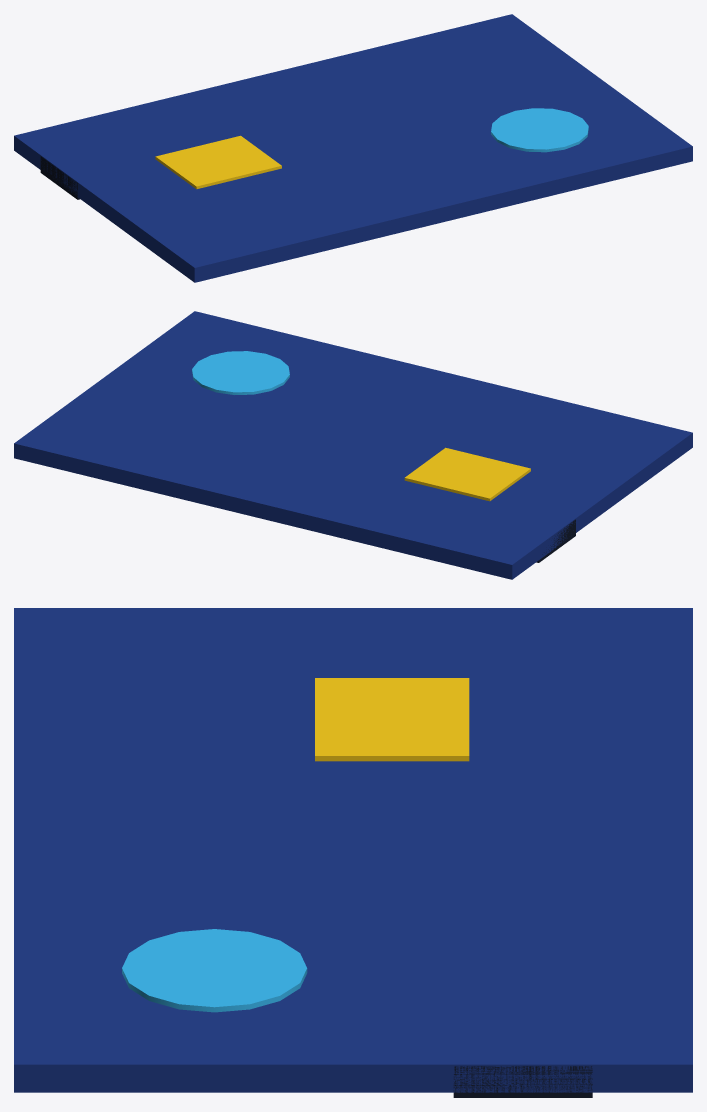
File: credit-card.glb
3 renders of one model, top to bottom at view 1: azimuth 30°, elevation 25°; view 2: azimuth 150°, elevation 25°; view 3: azimuth 270°, elevation 25°, orthographic. The views are drawn at different scales.
Size of the model in its own units: 1.4 by 0.055 by 0.88.
